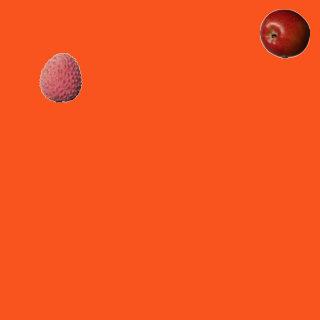Apple Braeburn: (259, 8, 309, 58)
Lychee: (35, 52, 85, 102)
